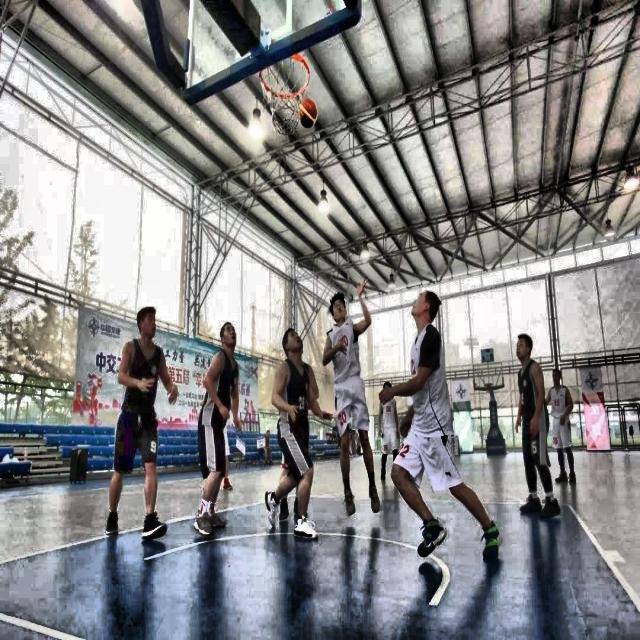board: (300, 99, 318, 128)
